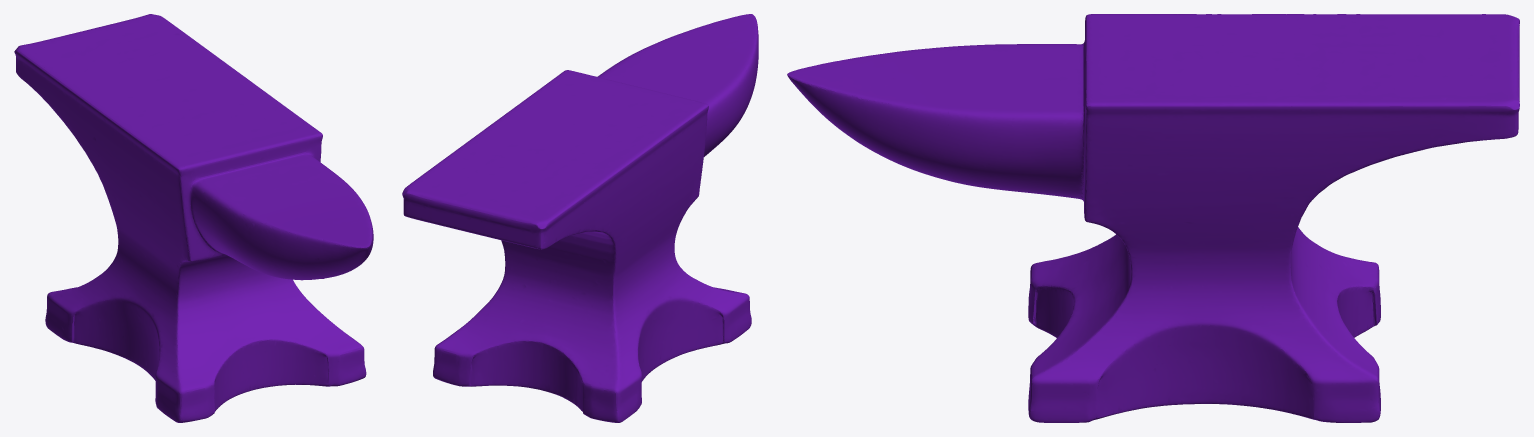
File: anvil.glb
The picture shows the model from 3 angles, left to right: view 1: azimuth 30°, elevation 25°; view 2: azimuth 150°, elevation 25°; view 3: azimuth 270°, elevation 25°; orthographic projection. The views are drawn at different scales.
Parts seen in each view (by area): view 1: model; view 2: model; view 3: model.
Part boxes in pixels (left/top/right/bottom): model: left=14, top=14, right=373, bottom=422; model: left=402, top=14, right=758, bottom=422; model: left=787, top=14, right=1519, bottom=422.
Bounding box in the file's own units: 0.7333 × 0.8771 × 1.9.
